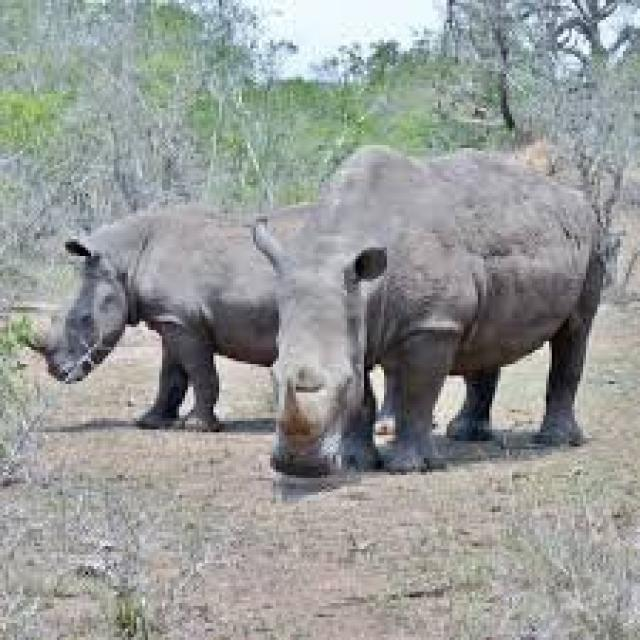Rinoceros: (250, 141, 615, 482), (25, 209, 278, 436)
